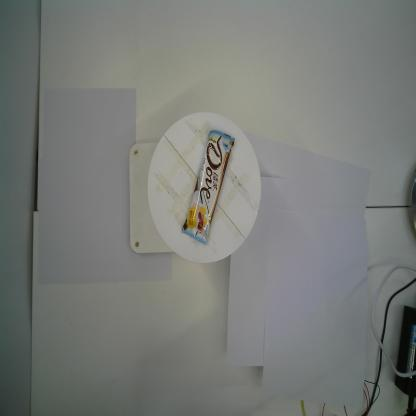Chocolate: (181, 129, 236, 246)
